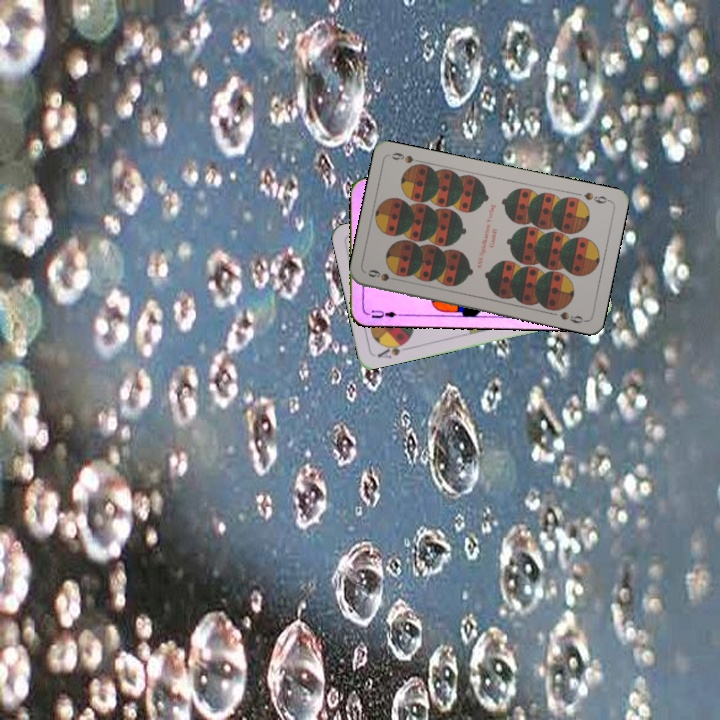EU: (362, 306, 403, 321)
S9: (364, 265, 404, 284), (580, 188, 613, 206)
SA: (373, 337, 410, 361)
